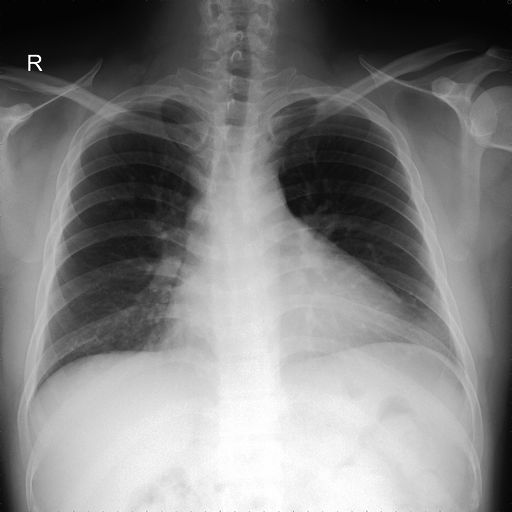Nodule/Mass: (163, 272, 413, 350)
